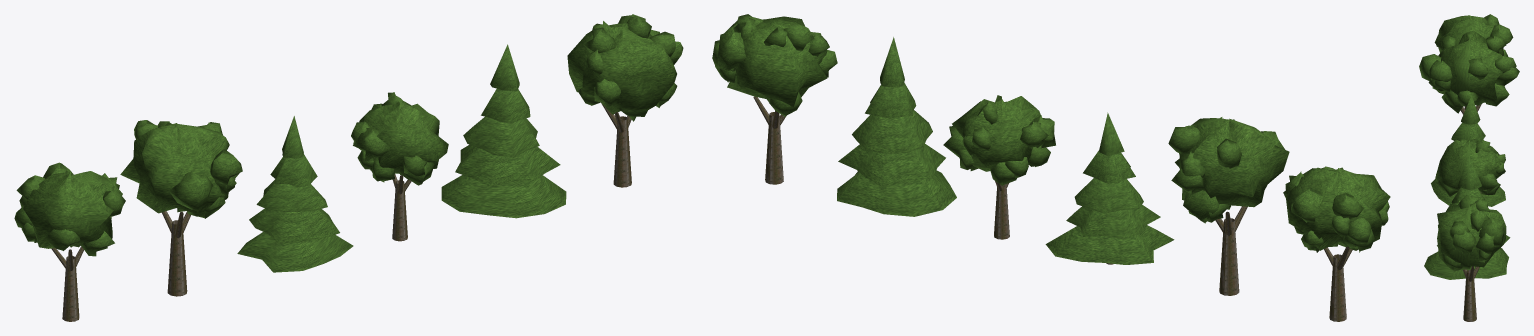
The model's file is tree_preview.glb.
3 renders of one model, left to right at view 1: azimuth 30°, elevation 25°; view 2: azimuth 150°, elevation 25°; view 3: azimuth 270°, elevation 25°, orthographic. The views are drawn at different scales.
Visible parts, largest first — view 1: tree_test; view 2: tree_test; view 3: tree_test.
Boxes of the visible parts, left/top/right/bottom form: tree_test: left=14, top=14, right=683, bottom=321; tree_test: left=712, top=14, right=1390, bottom=321; tree_test: left=1419, top=14, right=1519, bottom=321.
Size of the model in its own units: 67.25 by 16.73 by 12.37.
2 materials, 2 textured.
